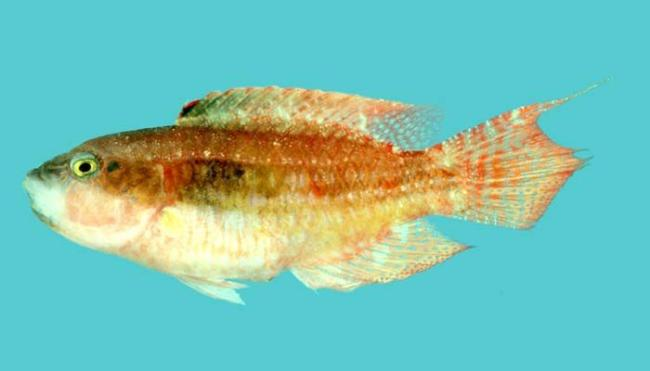fish: (22, 84, 594, 306)
